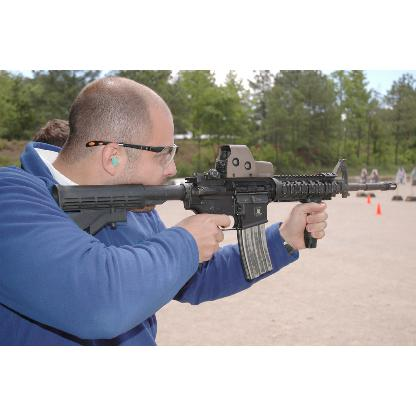gun: (52, 143, 394, 277)
